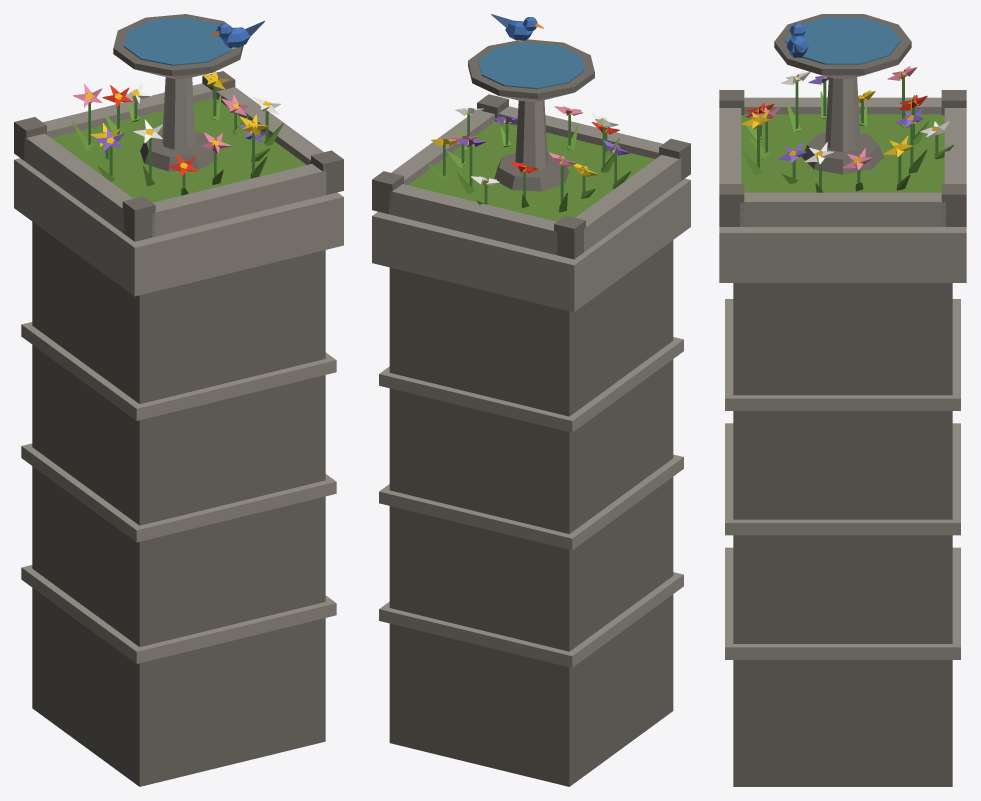
File: decor_bird_bath.glb
3 renders of one model, left to right at view 1: azimuth 30°, elevation 25°; view 2: azimuth 150°, elevation 25°; view 3: azimuth 270°, elevation 25°, orthographic. The views are drawn at different scales.
Parts seen in each view (by area): view 1: decor_bird_bath; view 2: decor_bird_bath; view 3: decor_bird_bath.
Boxes of the visible parts, left/top/right/bottom form: decor_bird_bath: left=14, top=14, right=343, bottom=786; decor_bird_bath: left=372, top=14, right=690, bottom=786; decor_bird_bath: left=719, top=14, right=966, bottom=786.
Size of the model in its own units: 1.8 by 5.86 by 1.8.
